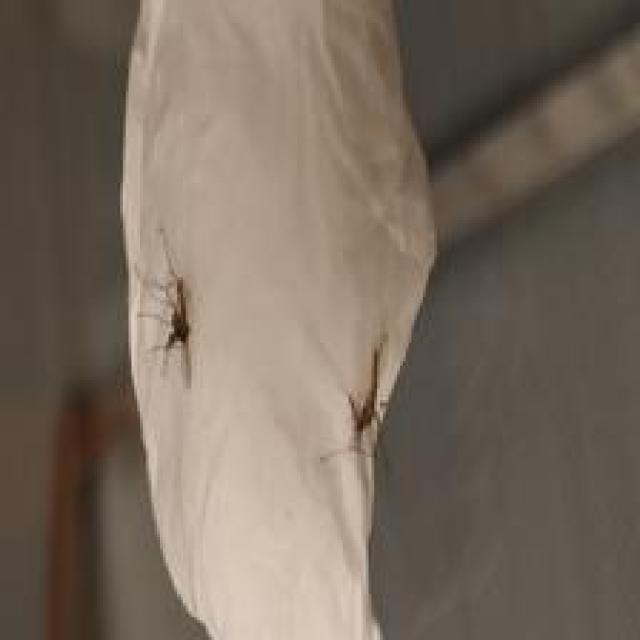Culex: (137, 227, 194, 387)
